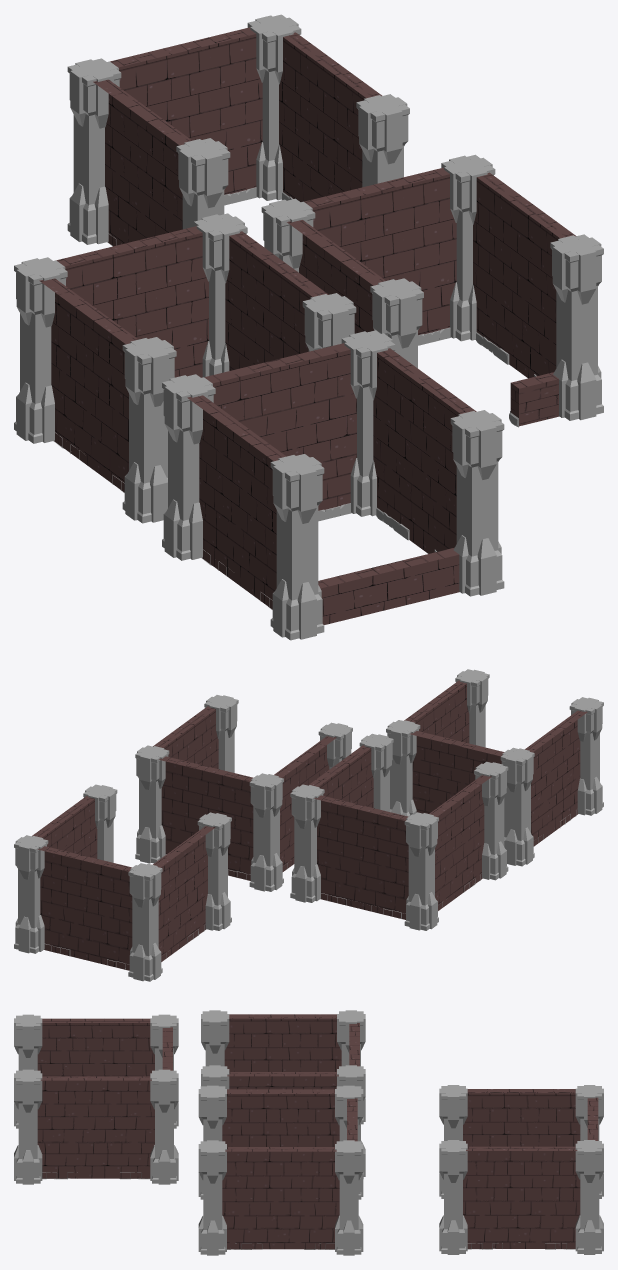
File: MuroThree_door.fbx
3 views of the same model, one above another, from view 1: azimuth 30°, elevation 25°; view 2: azimuth 150°, elevation 25°; view 3: azimuth 270°, elevation 25° (orthographic). The views are drawn at different scales.
Visible parts, largest first — view 1: Tr_Door_4, Tr_door_3, Tr_door, Tr_door_2; view 2: Tr_door_3, Tr_door, Tr_Door_4, Tr_door_2; view 3: Tr_door_2, Tr_Door_4, Tr_door, Tr_door_3.
Part boxes in pixels (x1=…): Tr_Door_4: x1=162, y1=330, x2=504, y2=640; Tr_door_3: x1=14, y1=213, x2=356, y2=523; Tr_door: x1=67, y1=14, x2=409, y2=246; Tr_door_2: x1=261, y1=154, x2=603, y2=427; Tr_door_3: x1=290, y1=733, x2=508, y2=930; Tr_door: x1=14, y1=784, x2=231, y2=981; Tr_Door_4: x1=386, y1=669, x2=603, y2=866; Tr_door_2: x1=135, y1=695, x2=352, y2=891; Tr_door_2: x1=198, y1=1085, x2=363, y2=1255; Tr_Door_4: x1=14, y1=1014, x2=178, y2=1184; Tr_door: x1=439, y1=1085, x2=603, y2=1254; Tr_door_3: x1=201, y1=1010, x2=365, y2=1178.
Size of the model in its own units: 3221 by 1149 by 5636.
Materials: 2 (1 with a texture image).
